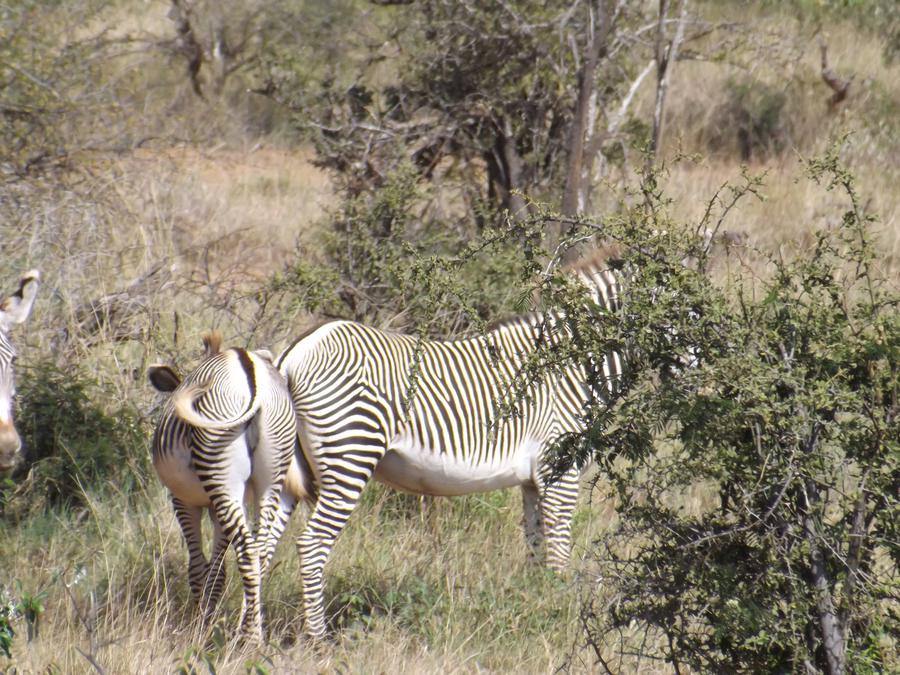zebra_grevys: (268, 305, 589, 476)
